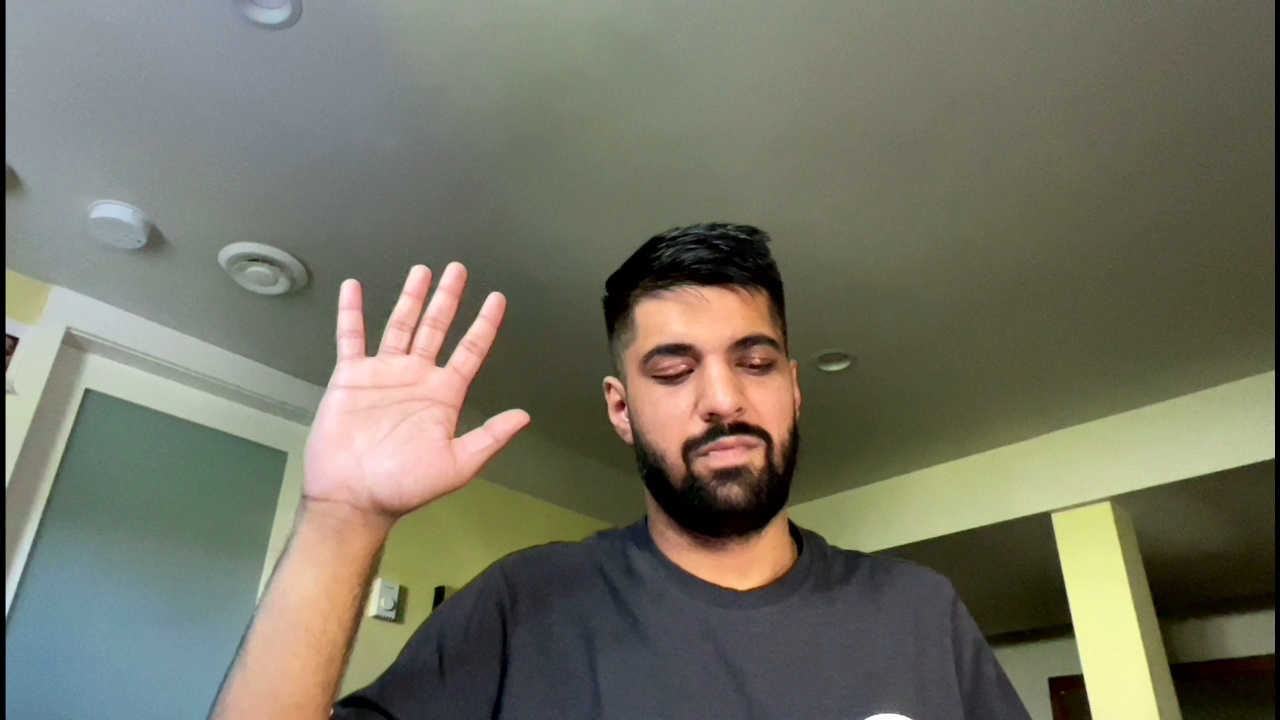Hey!: (269, 256, 542, 528)
